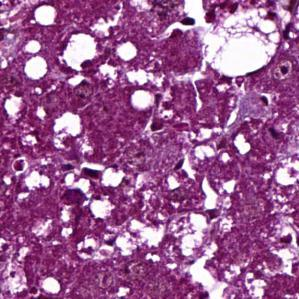ballooning: (201, 5, 283, 79)
